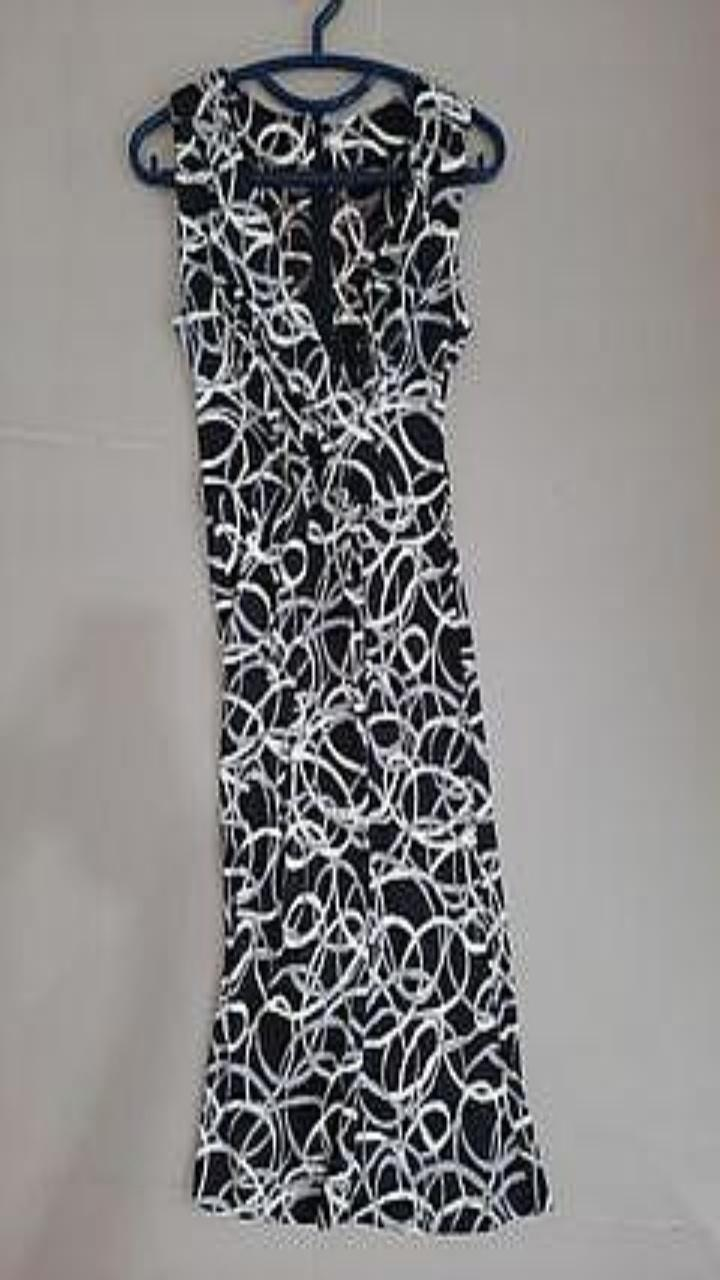Dresses: (171, 67, 552, 1232)
